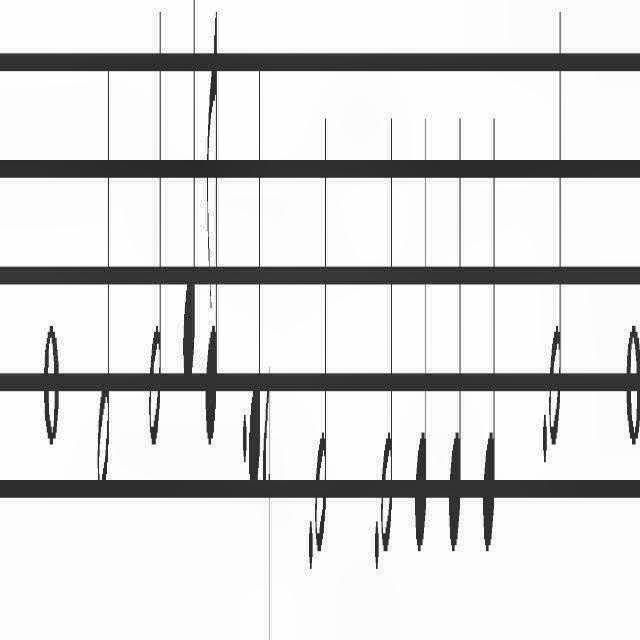Bemol: (263, 380, 277, 640)
Eighth-note: (203, 0, 224, 492)
Full-note: (624, 285, 640, 469), (44, 311, 60, 474)
Half-note: (95, 0, 114, 540), (144, 0, 164, 492), (380, 95, 398, 568), (548, 2, 566, 462), (314, 84, 330, 588)
Quarter-note: (446, 108, 468, 562), (412, 42, 430, 578), (481, 87, 497, 578), (179, 0, 197, 432), (250, 52, 262, 526)
